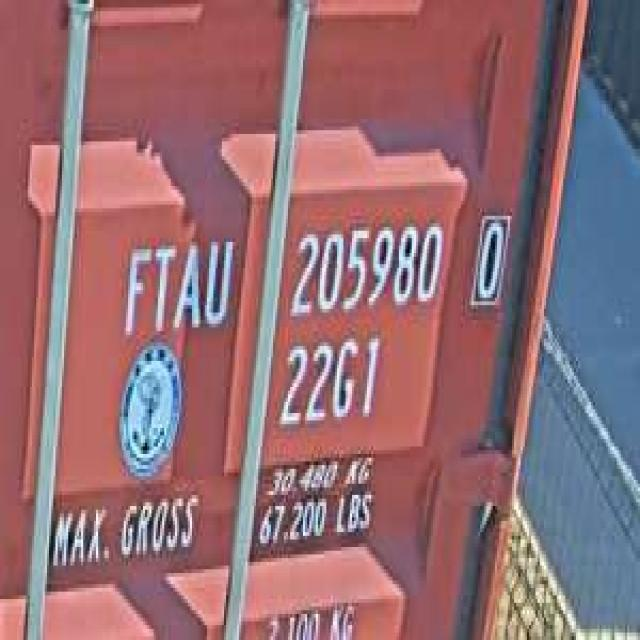dv: (469, 201, 512, 316)
owner: (117, 227, 235, 339)
serial: (284, 212, 446, 324)
size: (275, 331, 384, 439)
